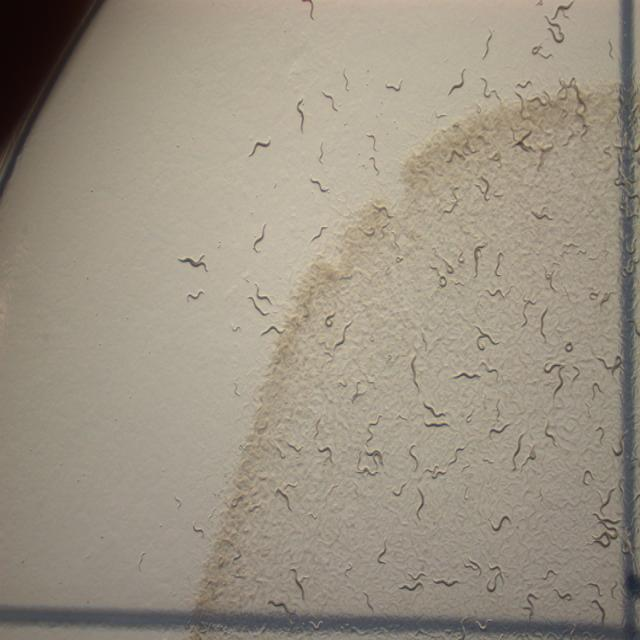filarid: (486, 564, 508, 592), (178, 254, 208, 271), (474, 242, 488, 276), (252, 224, 266, 254), (249, 138, 270, 157), (248, 297, 269, 316), (490, 514, 511, 532), (424, 464, 448, 479), (448, 446, 465, 466), (462, 559, 482, 576), (424, 401, 444, 417), (255, 284, 271, 303), (416, 487, 425, 520), (311, 225, 328, 242), (261, 324, 284, 335), (432, 577, 460, 586), (409, 571, 428, 581), (409, 444, 418, 465), (255, 227, 266, 244), (495, 252, 502, 275), (488, 289, 505, 297), (310, 178, 322, 189), (400, 584, 418, 591), (425, 422, 450, 427), (515, 440, 520, 454), (392, 490, 401, 495)
